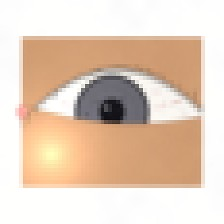pterygium_lesion: (22, 94, 68, 130)
